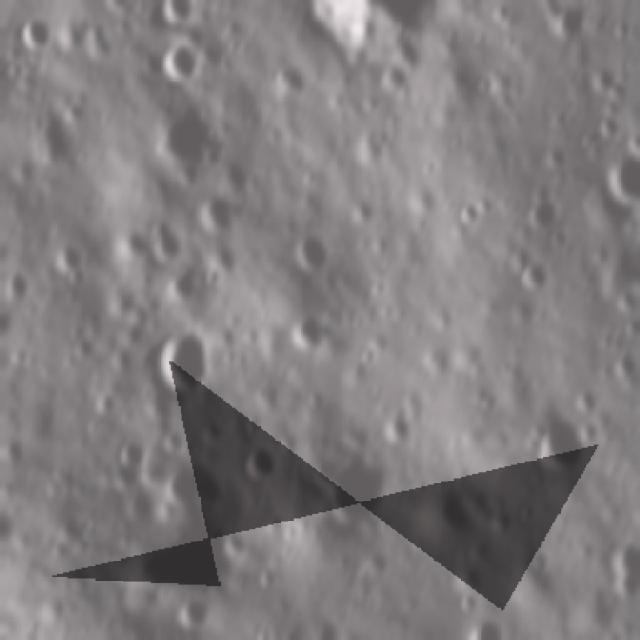crater: (124, 520, 238, 614), (298, 0, 440, 63), (306, 447, 392, 541), (143, 323, 212, 400), (148, 108, 221, 177), (525, 412, 590, 479), (421, 482, 482, 550), (161, 459, 224, 516), (600, 143, 640, 214), (543, 0, 594, 51), (601, 534, 640, 600), (520, 182, 566, 233), (288, 230, 334, 278), (142, 215, 187, 263), (190, 182, 233, 232), (371, 59, 424, 98), (161, 37, 202, 85), (284, 312, 330, 354), (161, 266, 205, 305), (1, 268, 39, 310), (17, 16, 55, 56), (47, 239, 85, 279), (517, 255, 554, 296), (236, 440, 275, 478), (581, 59, 616, 99), (274, 64, 311, 101), (154, 0, 194, 34), (54, 95, 91, 131), (383, 406, 415, 446), (447, 198, 482, 233), (175, 590, 207, 628), (521, 540, 553, 578), (86, 386, 120, 420), (115, 436, 147, 472), (572, 384, 598, 418), (453, 589, 479, 617), (352, 342, 377, 368), (470, 70, 495, 96)
